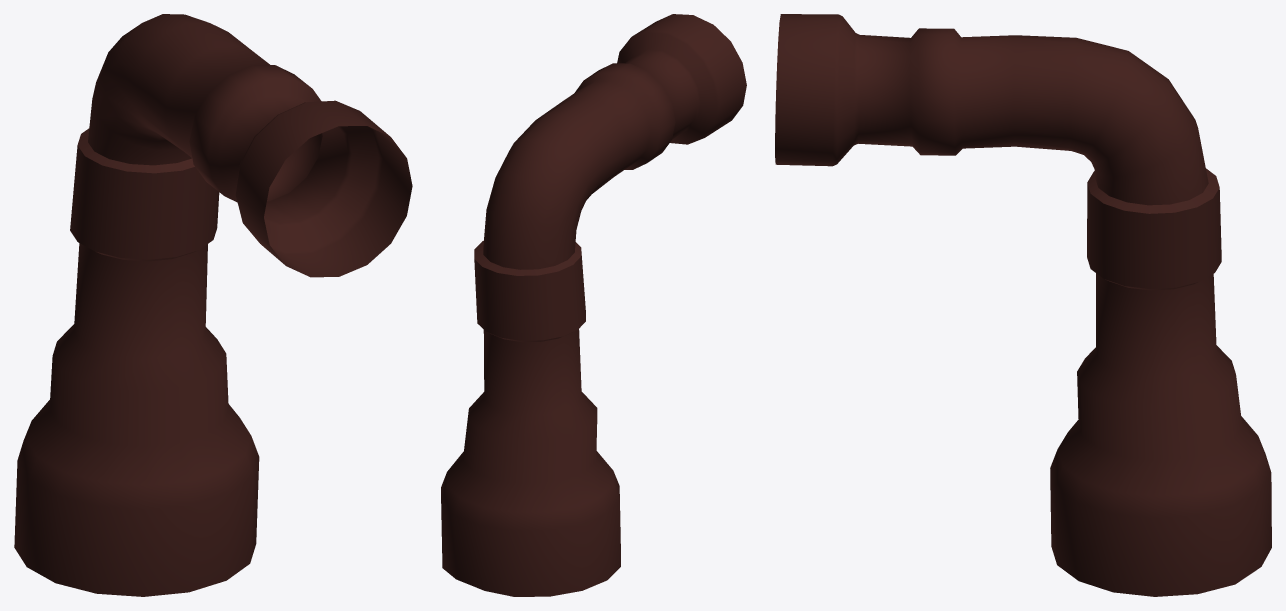
Rendered from sc_FeiTu_mesh_zhalan14.FBX.
3 views of the same model, side by side, from view 1: azimuth 30°, elevation 25°; view 2: azimuth 150°, elevation 25°; view 3: azimuth 270°, elevation 25° (orthographic). The views are drawn at different scales.
Visible parts, largest first — view 1: mesh_zhalan14; view 2: mesh_zhalan14; view 3: mesh_zhalan14.
Part boxes in pixels (bbox=[...]): mesh_zhalan14: bbox=[14, 14, 412, 596]; mesh_zhalan14: bbox=[441, 14, 746, 596]; mesh_zhalan14: bbox=[775, 14, 1271, 596].
Size of the model in its own units: 55.51 by 144 by 123.
